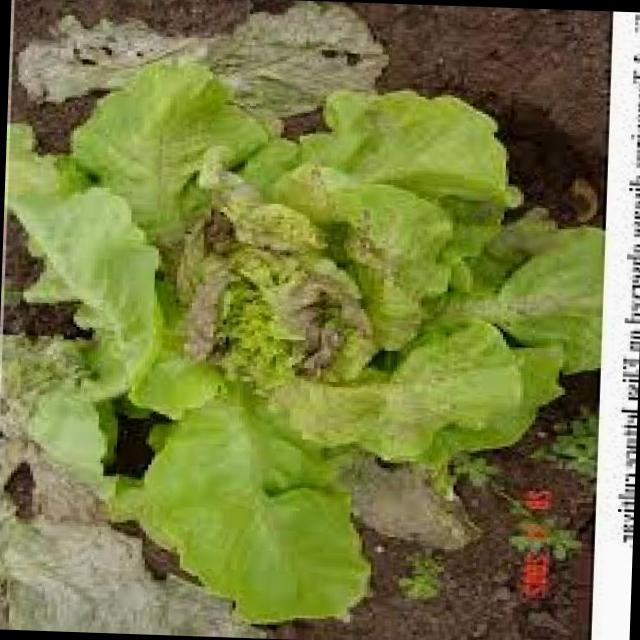Powdery_Mildew: (94, 123, 536, 456)
